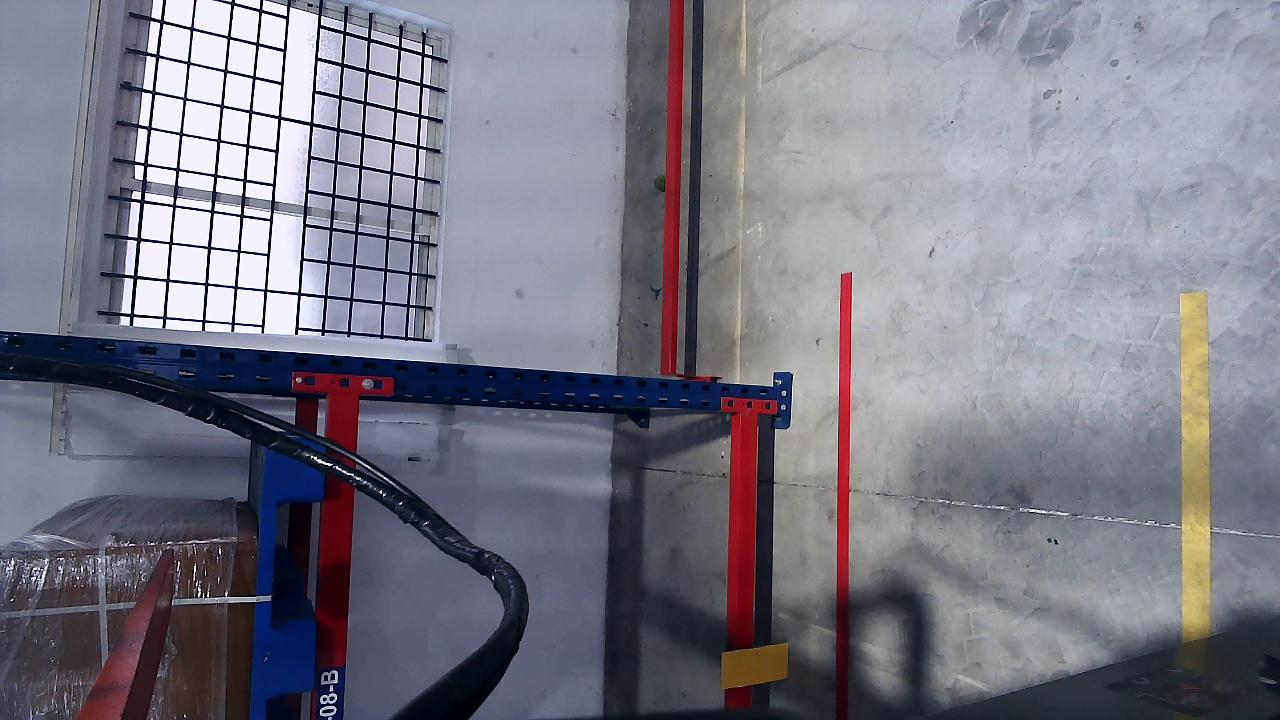h_rack: (310, 393, 360, 713), (728, 411, 761, 713)
orange_strip: (721, 642, 788, 689)
red_line: (831, 269, 852, 719)
yellow_line: (1179, 298, 1211, 635)
